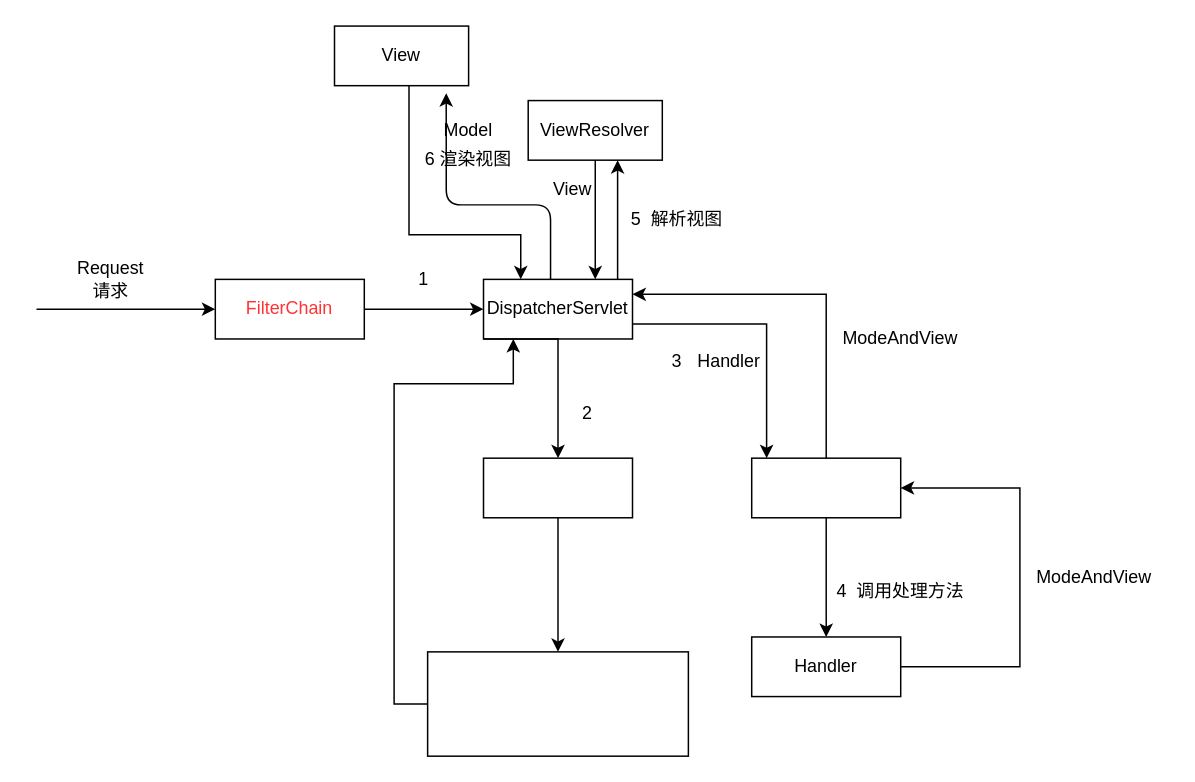
Some shapes in this 1195 by 782 pixel diagram are drawn without their labels. The shapes that lost their labels are listed below. From the top down, each one's centre as x and y in pixels, then its label:
At pixel 557 487: "HandlerMapping".
At pixel 825 487: "HandlerAdapter".
At pixel 557 703: "HandlerExecutionChain HandlerInterceptor HandlerInterceptor Handler".
